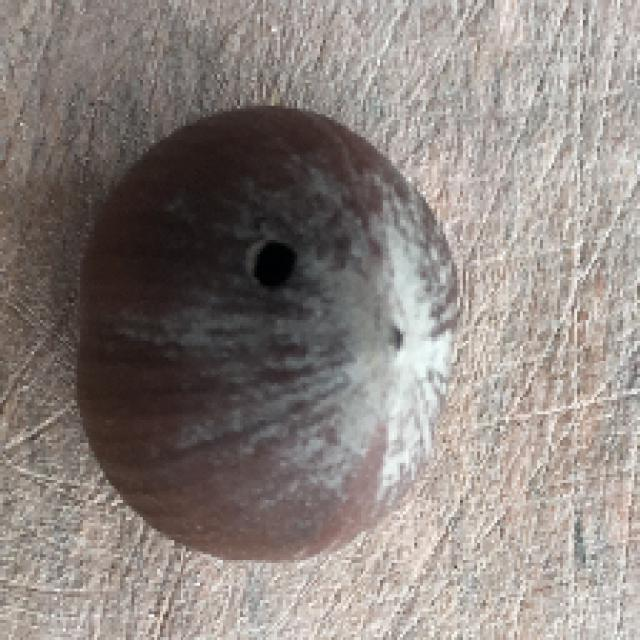damagedHazelnut: (73, 106, 461, 557)
